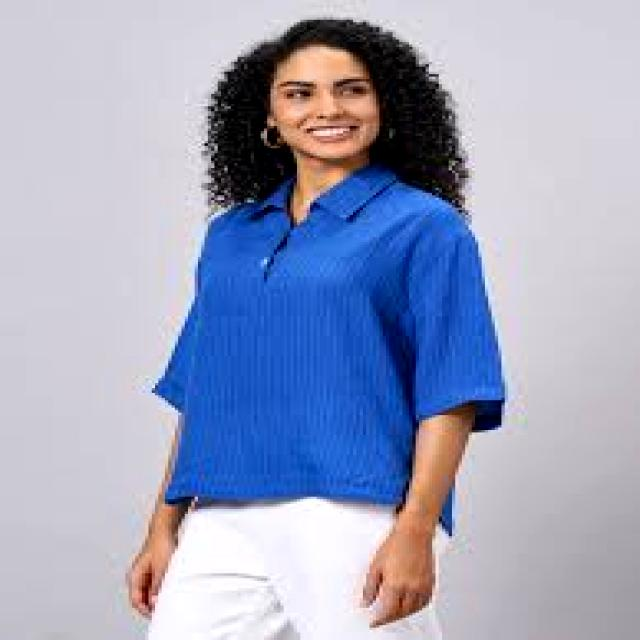face: (268, 45, 382, 163)
lower-wear: (149, 497, 451, 639)
top-wear: (152, 161, 504, 504)
